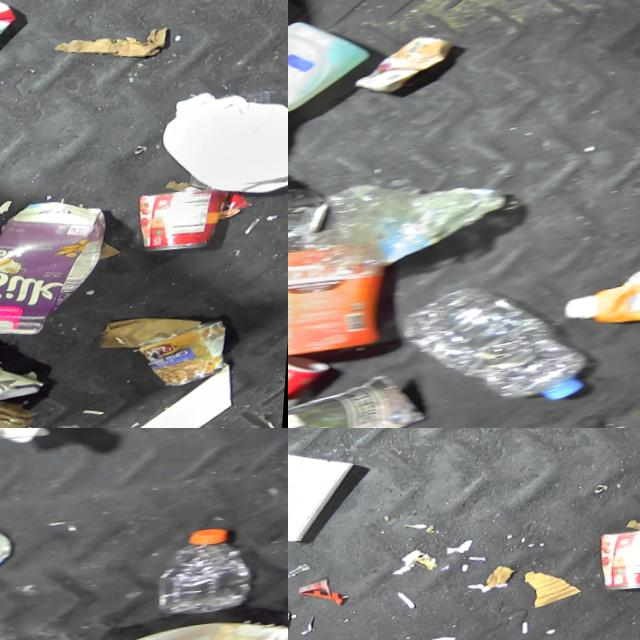can: (288, 371, 437, 428), (140, 185, 239, 270), (352, 31, 458, 101), (288, 350, 340, 428), (599, 533, 640, 603)
milk_jug: (156, 87, 288, 218), (288, 11, 379, 134)
non_white_jug: (288, 241, 394, 363), (564, 243, 640, 339)
plastic_bottle: (393, 280, 602, 424), (292, 175, 512, 277), (156, 528, 278, 632)
